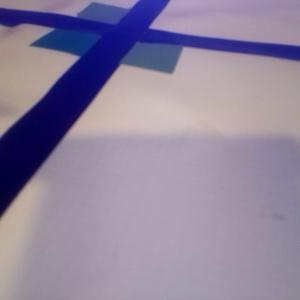bottom_left: (30, 25, 124, 57)
bottom_right: (101, 33, 183, 72)
top_left: (78, 2, 149, 31)
